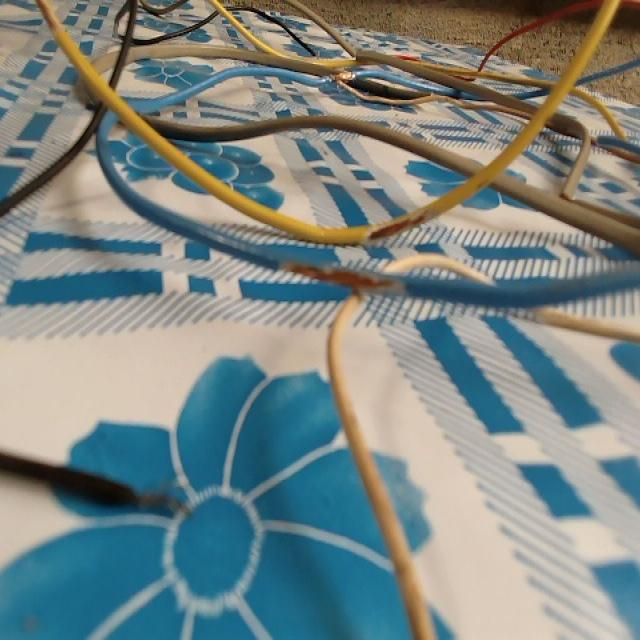-: (273, 250, 417, 306), (365, 202, 433, 246), (133, 484, 192, 525), (326, 67, 360, 88)
